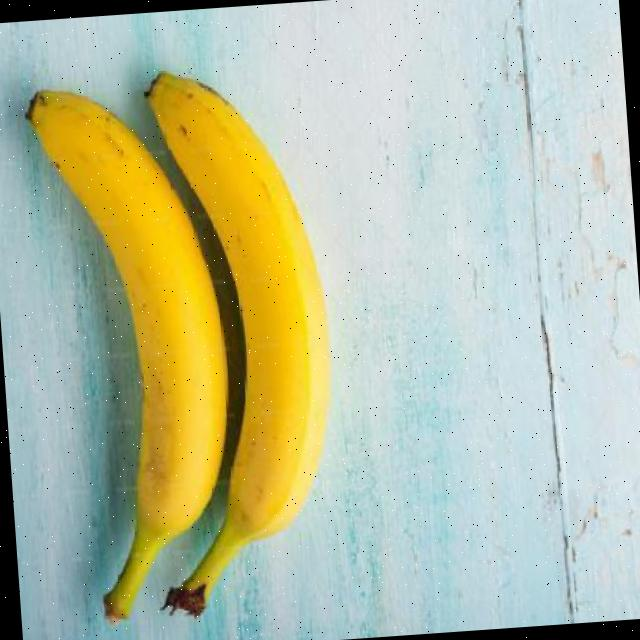banana: (25, 88, 227, 619), (144, 69, 330, 590)
